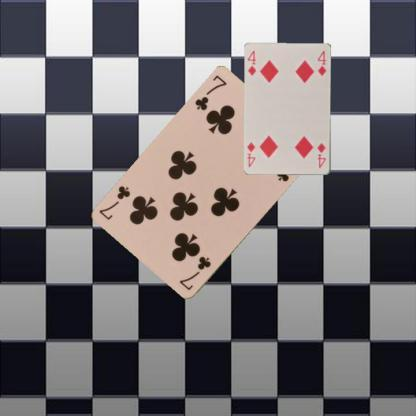4d: (315, 140, 327, 170), (246, 48, 258, 77)
7c: (192, 73, 228, 112), (176, 254, 213, 291)
